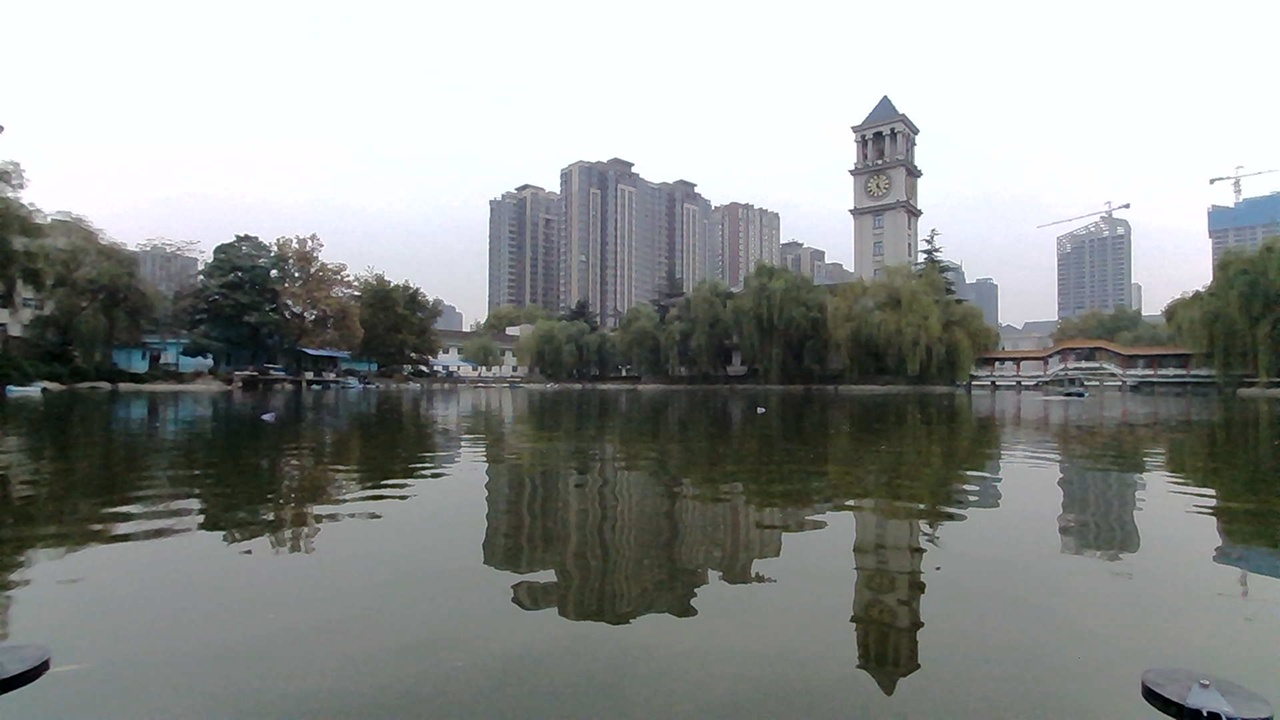bottle: (250, 397, 299, 434), (742, 393, 785, 422)
